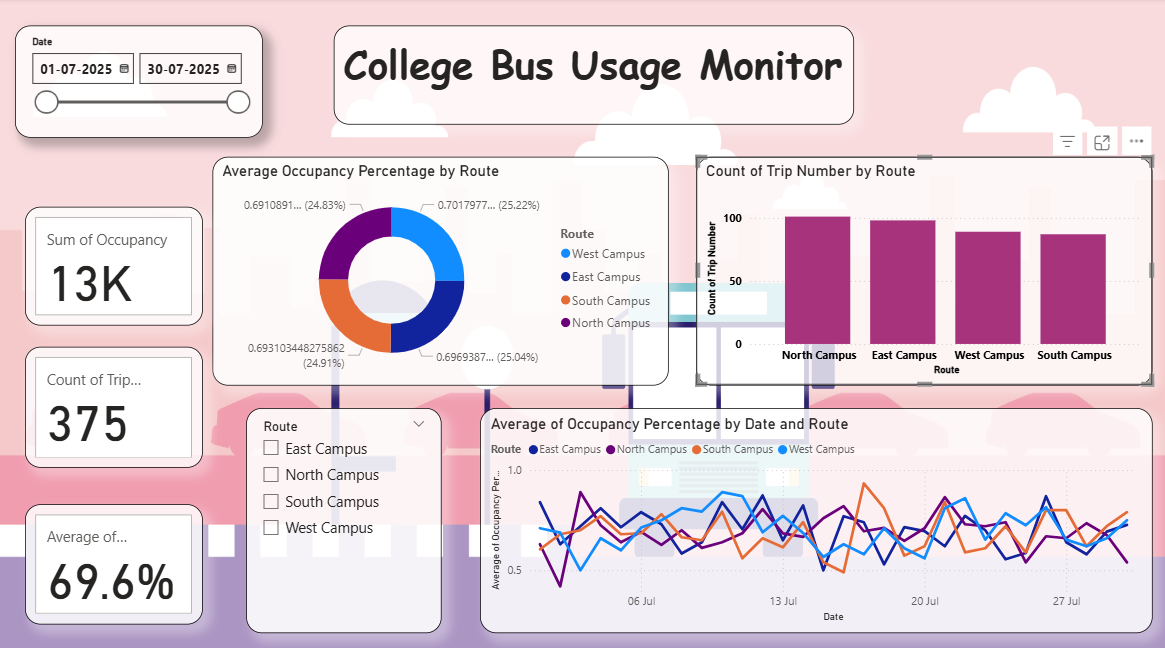

Layout of this report page (visuals, bound fields, positions):
{"tool":"powerbi","page":{"name":"Page 1","canvas":[1280,720],"ordinal":0},"visuals":[{"type":"slicer","fields":{"Values":["Sheet1.Route","Sheet1.Bus ID","Sheet1.Date"]},"box":[270.3,450.1,214.1,247],"z":0},{"type":"slicer","fields":{"Values":["Sheet1.Date"]},"box":[16.5,30.2,271.7,123.5],"z":1000},{"type":"clusteredColumnChart","fields":{"Category":["Sheet1.Route"],"Y":["CountNonNull(Sheet1.Trip Number)"]},"box":[764.3,174.3,500.9,251.1],"z":2000},{"type":"lineChart","fields":{"Y":["Avg(Sheet1.Occupancy Percentage)"],"Category":["Sheet1.Date"],"Series":["Sheet1.Route"]},"box":[526.9,450.1,738.3,247],"z":3000},{"type":"donutChart","fields":{"Category":["Sheet1.Route"],"Y":["Sheet1.Average Occupancy Percentage"]},"box":[233.3,174.3,500.9,251.1],"z":4000},{"type":"cardVisual","fields":{"Data":["CountNonNull(Sheet1.Trip Number)"]},"box":[27.4,382.8,194.9,133.1],"z":5000},{"type":"cardVisual","fields":{"Data":["Sum(Sheet1.Occupancy)"]},"box":[27.4,229.2,194.9,130.4],"z":6000},{"type":"cardVisual","fields":{"Data":["Avg(Sheet1.Occupancy Percentage)1"]},"box":[27.4,555.7,194.9,131.7],"z":7000},{"type":"textbox","box":[366.4,30.2,570.8,108.4],"z":8000}]}

Visuals, with their boxes in screenshot pixels (x1, y1, x2, y2), scaled from the page's 1280x720 canvas onto the 1165x648 screenshot:
slicer - Sheet1.Route x Sheet1.Bus ID: (x1=246, y1=405, x2=441, y2=627)
slicer - Sheet1.Date: (x1=15, y1=27, x2=262, y2=138)
clusteredColumnChart - Sheet1.Route x CountNonNull(Sheet1.Trip Number): (x1=696, y1=157, x2=1152, y2=383)
lineChart - Avg(Sheet1.Occupancy Percentage) x Sheet1.Date: (x1=480, y1=405, x2=1152, y2=627)
donutChart - Sheet1.Route x Sheet1.Average Occupancy Percentage: (x1=212, y1=157, x2=668, y2=383)
cardVisual - CountNonNull(Sheet1.Trip Number): (x1=25, y1=345, x2=202, y2=464)
cardVisual - Sum(Sheet1.Occupancy): (x1=25, y1=206, x2=202, y2=324)
cardVisual - Avg(Sheet1.Occupancy Percentage)1: (x1=25, y1=500, x2=202, y2=619)
textbox: (x1=333, y1=27, x2=853, y2=125)
